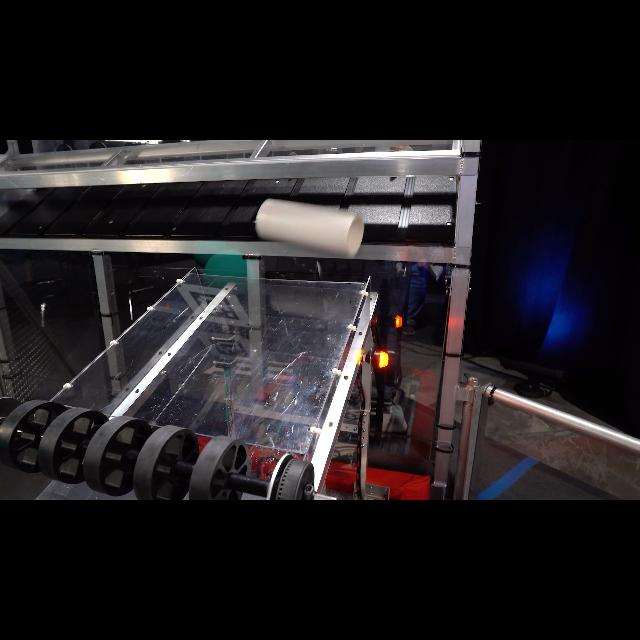CORAL: (256, 200, 364, 258)
